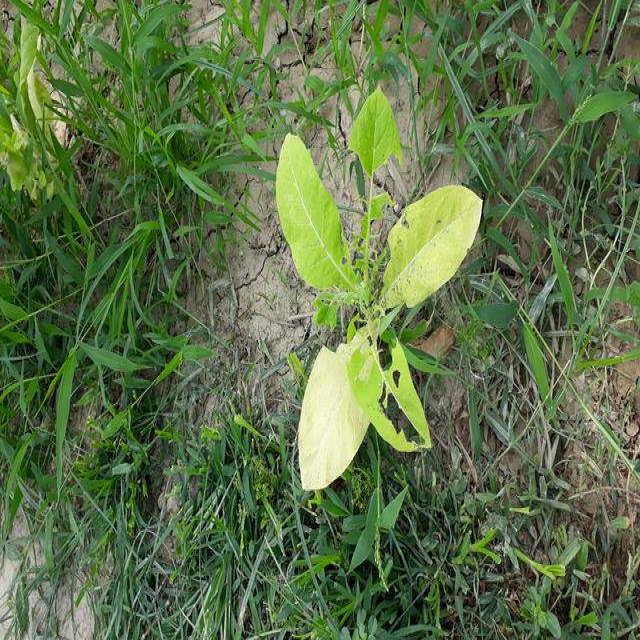crop: (268, 81, 483, 514)
